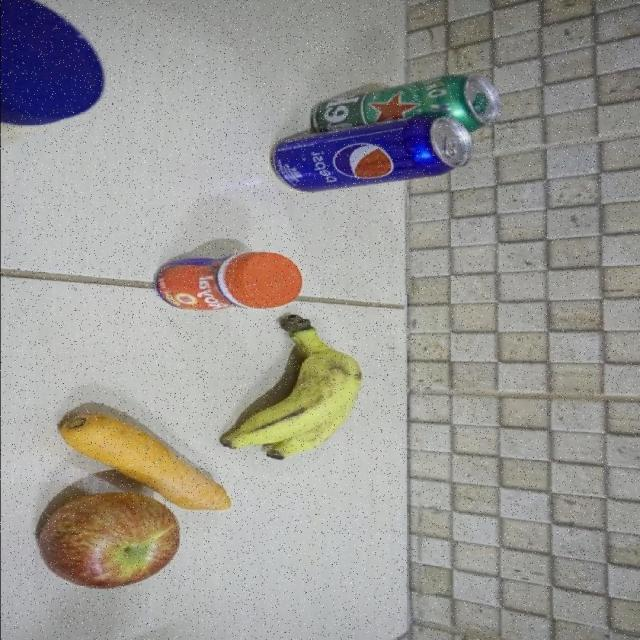Apple: (36, 490, 182, 588)
Banana: (220, 313, 364, 461)
BeerCan: (309, 72, 504, 136)
Carrot: (56, 412, 230, 510)
SodaCan: (270, 114, 472, 192)
Yeast: (153, 252, 303, 310)
